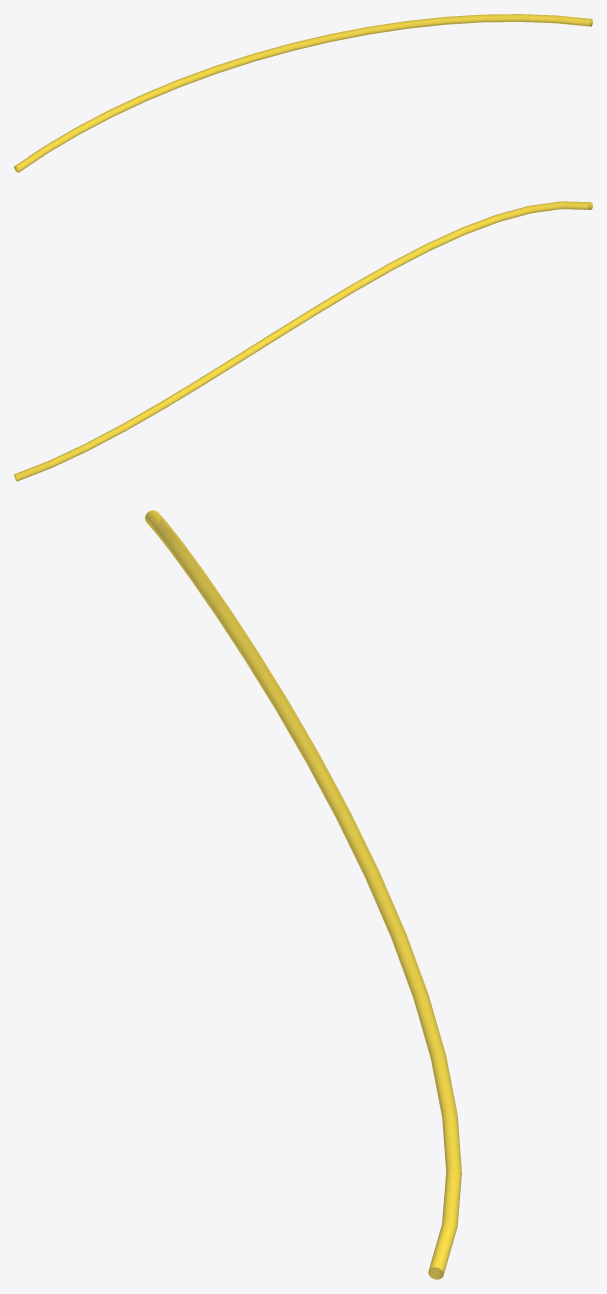
File: Event_419990632_track_78.fbx
3 renders of one model, top to bottom at view 1: azimuth 30°, elevation 25°; view 2: azimuth 210°, elevation 25°; view 3: azimuth 270°, elevation 25°, orthographic. The views are drawn at different scales.
Visible parts, largest first — view 1: Model; view 2: Model; view 3: Model.
Boxes of the visible parts, x1,y1,x2,y2 form: Model: (14, 14, 592, 172); Model: (14, 201, 592, 481); Model: (145, 510, 461, 1279).
Bounding box in the file's own units: 3.79 × 0.5179 × 0.8029.
